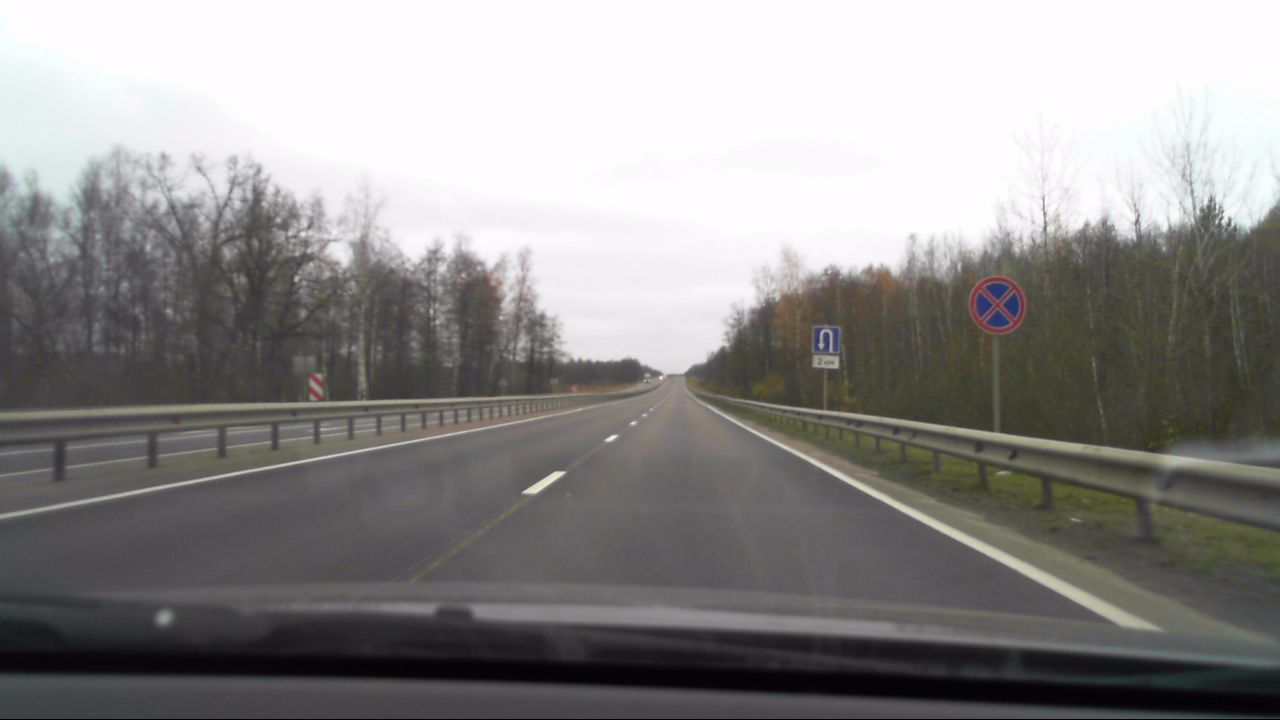No Parking: (969, 274, 1026, 335)
U-turn: (813, 326, 839, 354)
